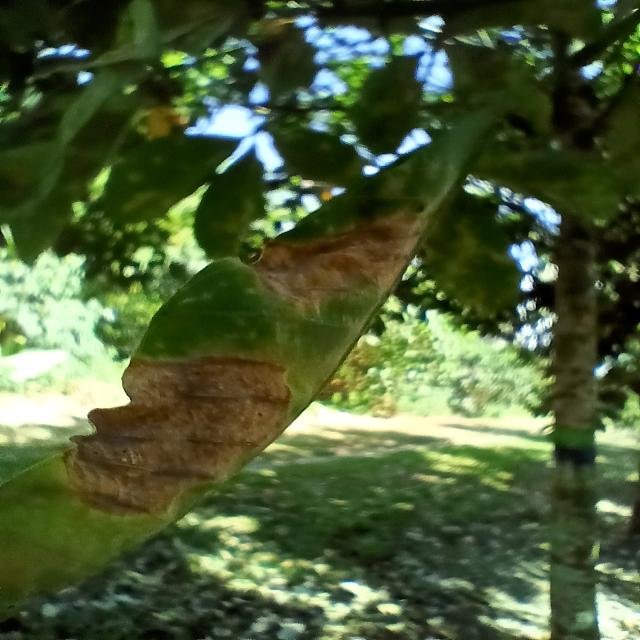Leaf-Blight: (61, 356, 291, 516), (250, 212, 426, 310)
